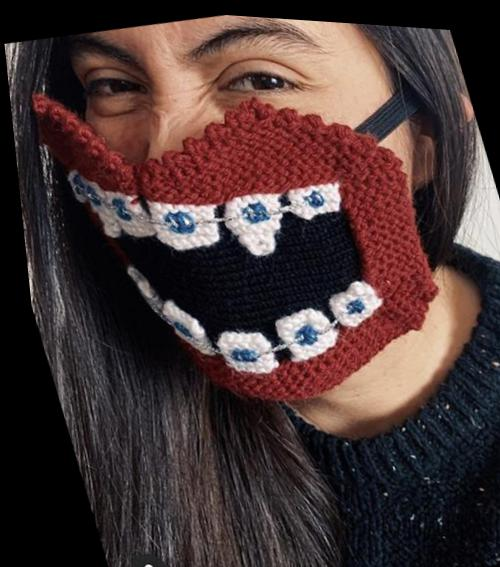WRONG: (45, 3, 452, 435)
